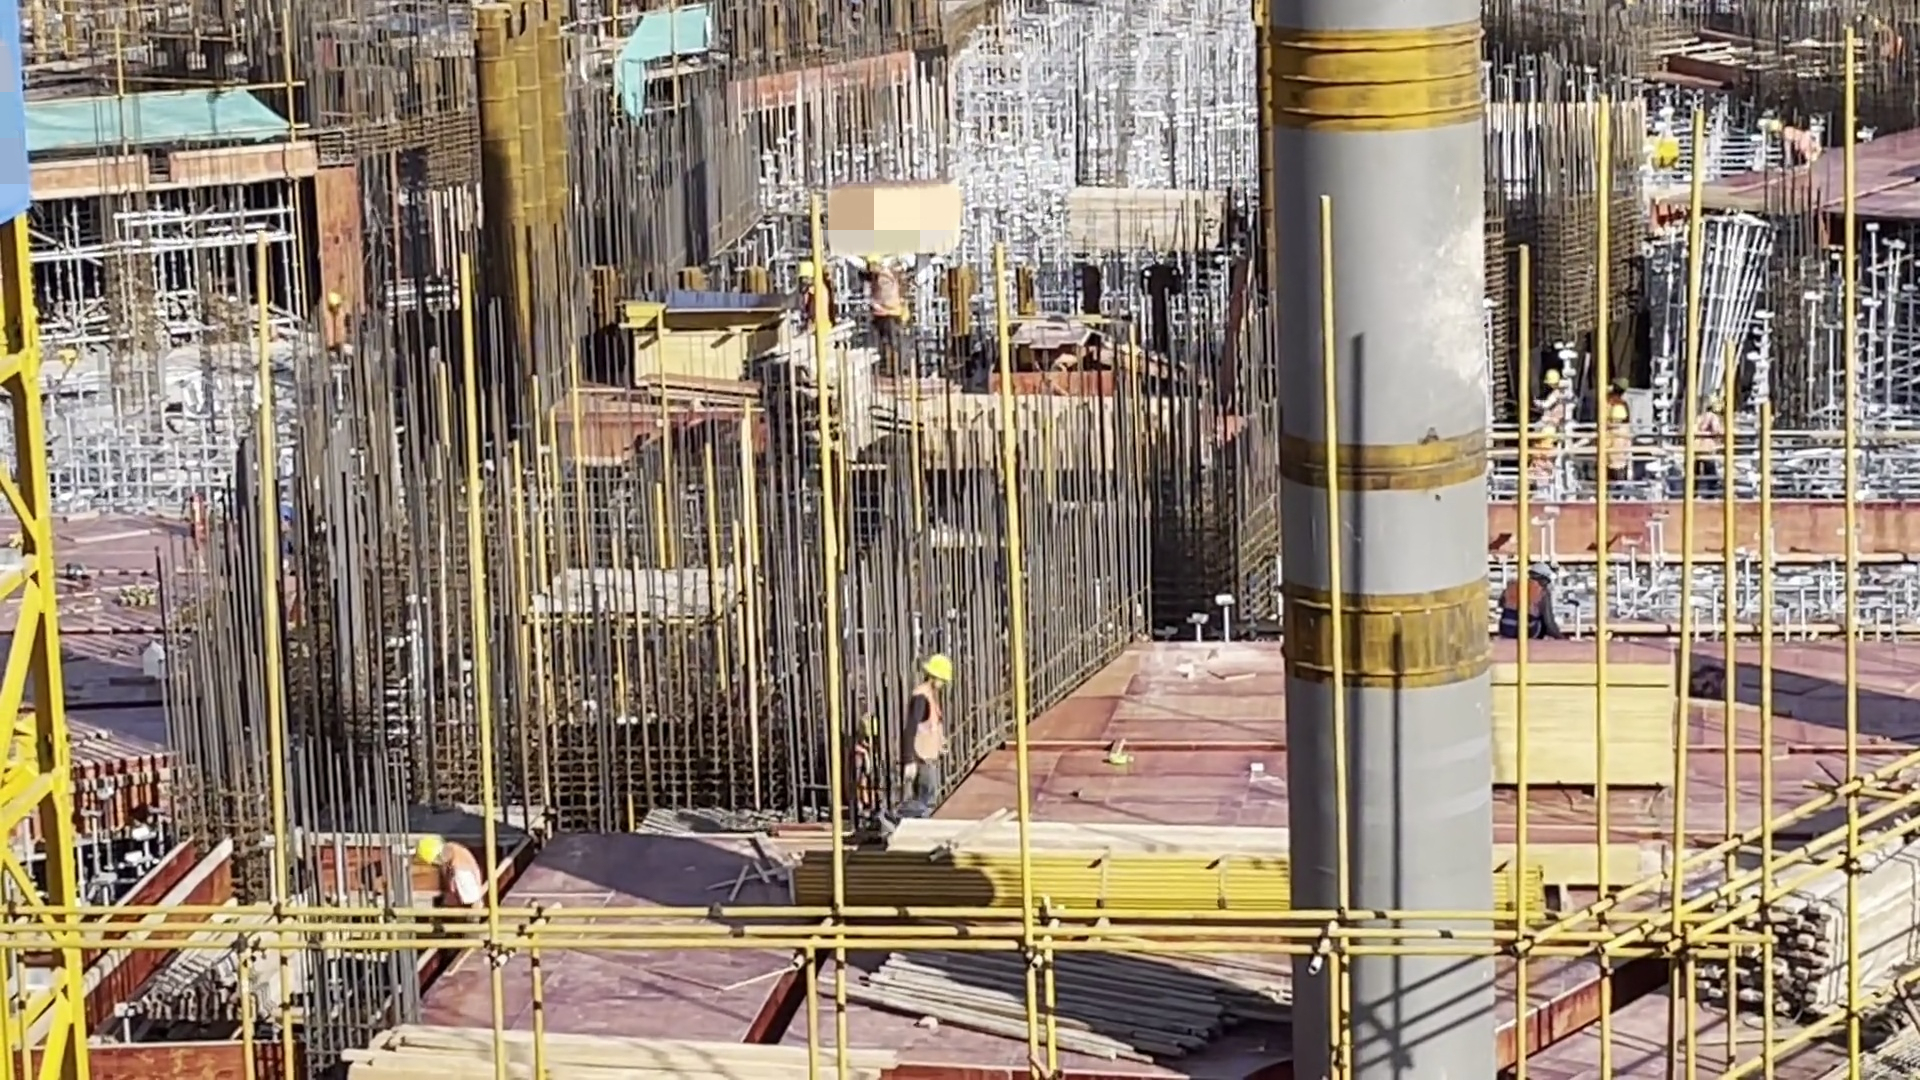helmet: (915, 650, 957, 695), (415, 831, 445, 864), (1535, 366, 1561, 400), (795, 257, 819, 291), (319, 286, 343, 314), (1607, 371, 1633, 395), (1525, 560, 1547, 586), (862, 252, 881, 280), (1760, 115, 1779, 138), (1606, 402, 1625, 425)
person: (849, 250, 914, 375), (904, 651, 953, 799), (408, 830, 489, 913), (1497, 558, 1565, 638), (836, 707, 879, 824), (1679, 389, 1724, 492), (1759, 110, 1827, 175), (787, 258, 842, 330), (1593, 404, 1634, 481), (312, 292, 351, 351), (1530, 366, 1572, 417)
